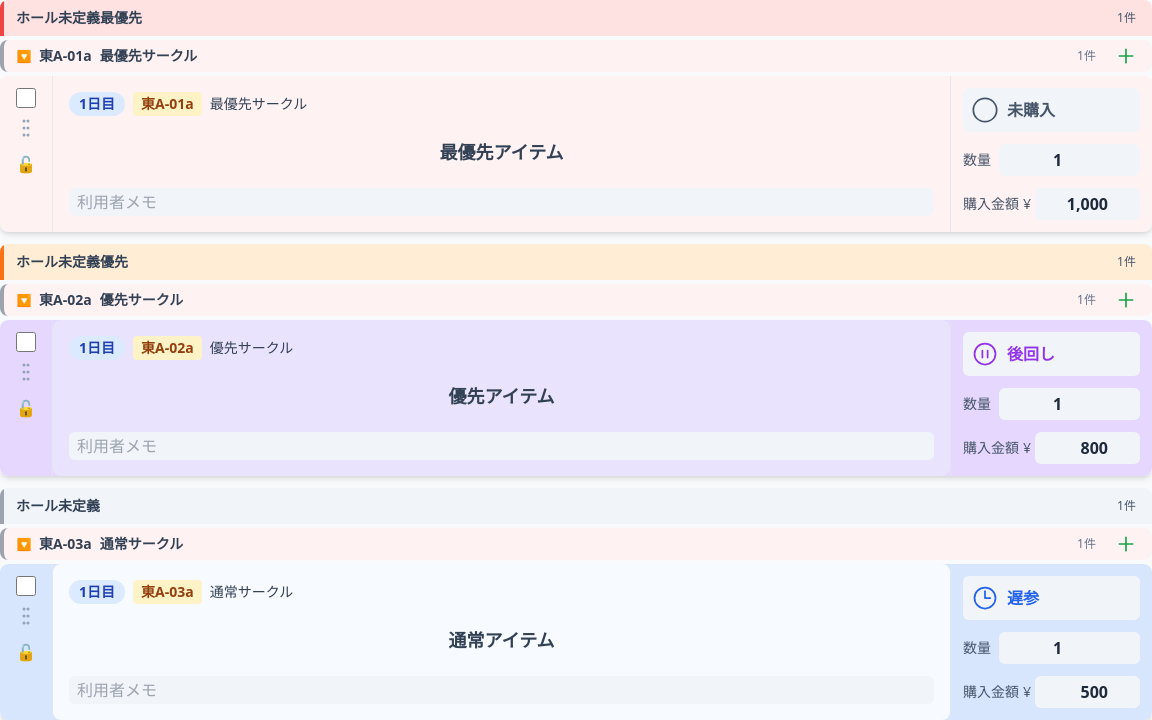
Test case: ShoppingList accessibility › renders the add-item form as a named modal with visible labels and contained focus
The width and height of the screenshot is (1152, 720).
Click the 1st button named "このスペースにアイテムを追加": (1126, 56) x1=1108 y1=42 x2=1144 y2=70
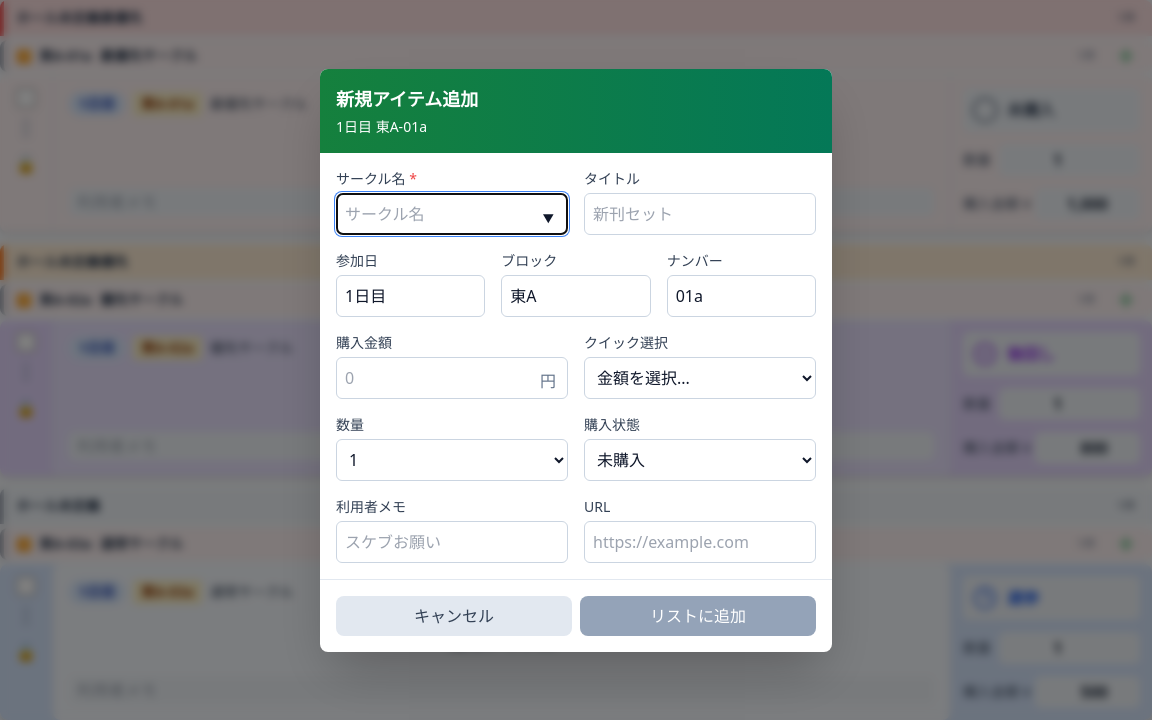
Result: the text "1日目 東A-01a" is shown at x1=336 y1=116 x2=427 y2=136
Result: the label "タイトル" is shown at x1=584 y1=168 x2=640 y2=188
Result: the label "参加日" is shown at x1=336 y1=250 x2=378 y2=270
Press Tab in the field labelled "サークル名", box x1=336 y1=192 x2=568 y2=234
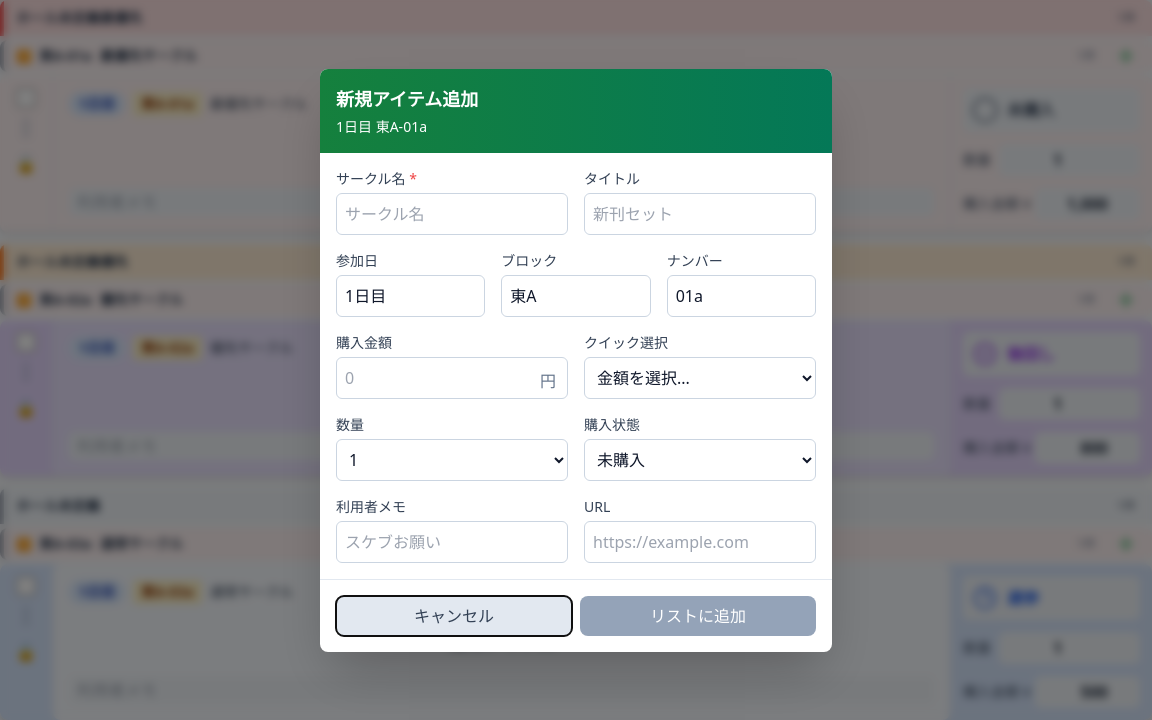
Press Tab in the button "キャンセル", box x1=336 y1=596 x2=572 y2=636
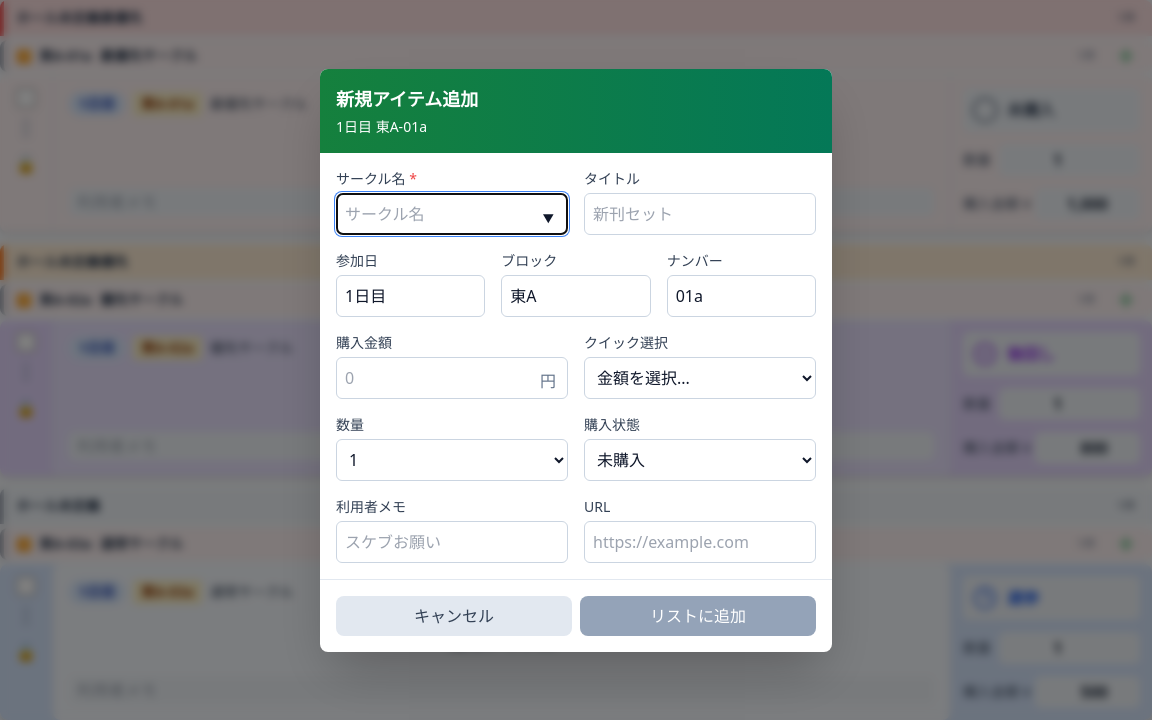
Press Escape in the dialog "新規アイテム追加", box x1=320 y1=68 x2=832 y2=652
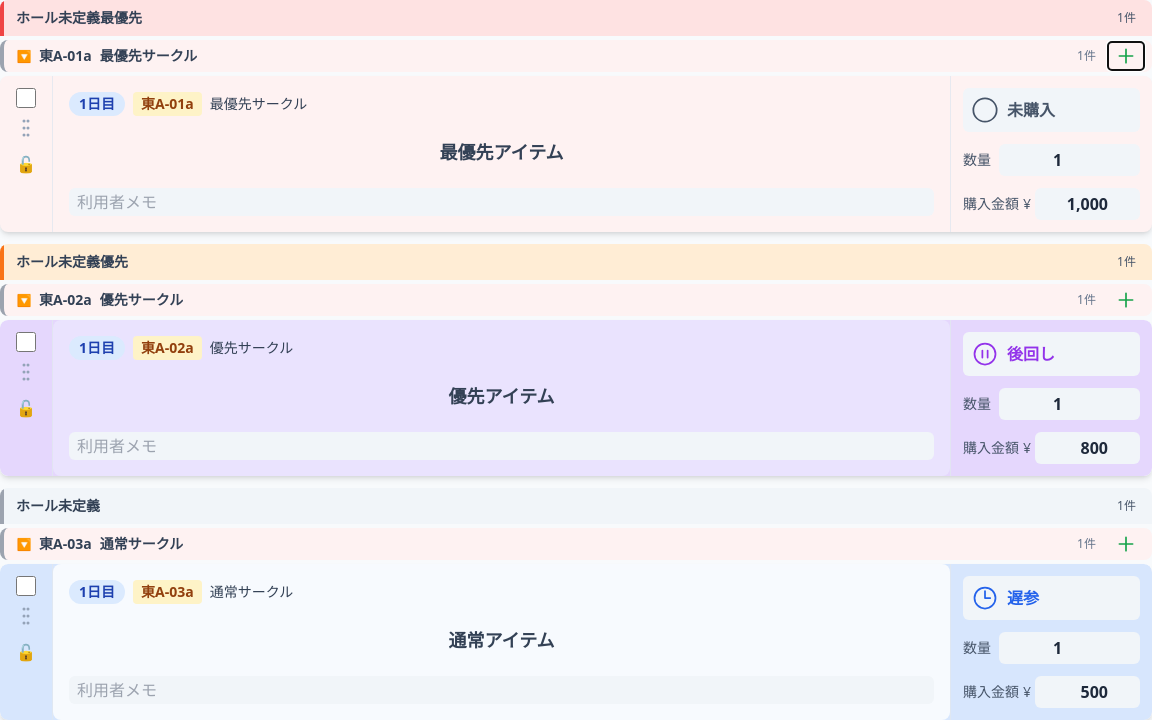
Result: the heading "新規アイテム追加" is gone
